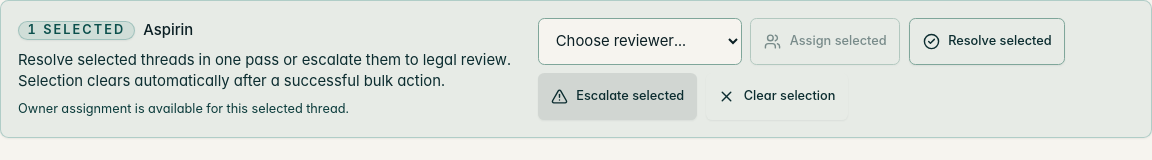
Scenario: ReviewQueueBulkToolbar › keeps clear selection disabled while a bulk mutation is pending
This screenshot has width=1152, height=160.
Click the button "Resolve selected": (987, 41) left=909, top=18, right=1065, bottom=65
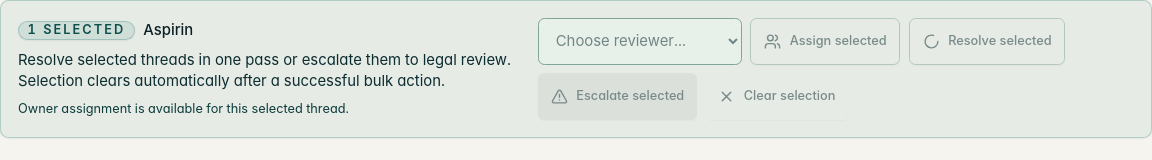
Expected: the button "Clear selection" is disabled, left=706, top=73, right=848, bottom=120
Expected: the button "Resolve selected" is disabled, left=909, top=18, right=1065, bottom=65
